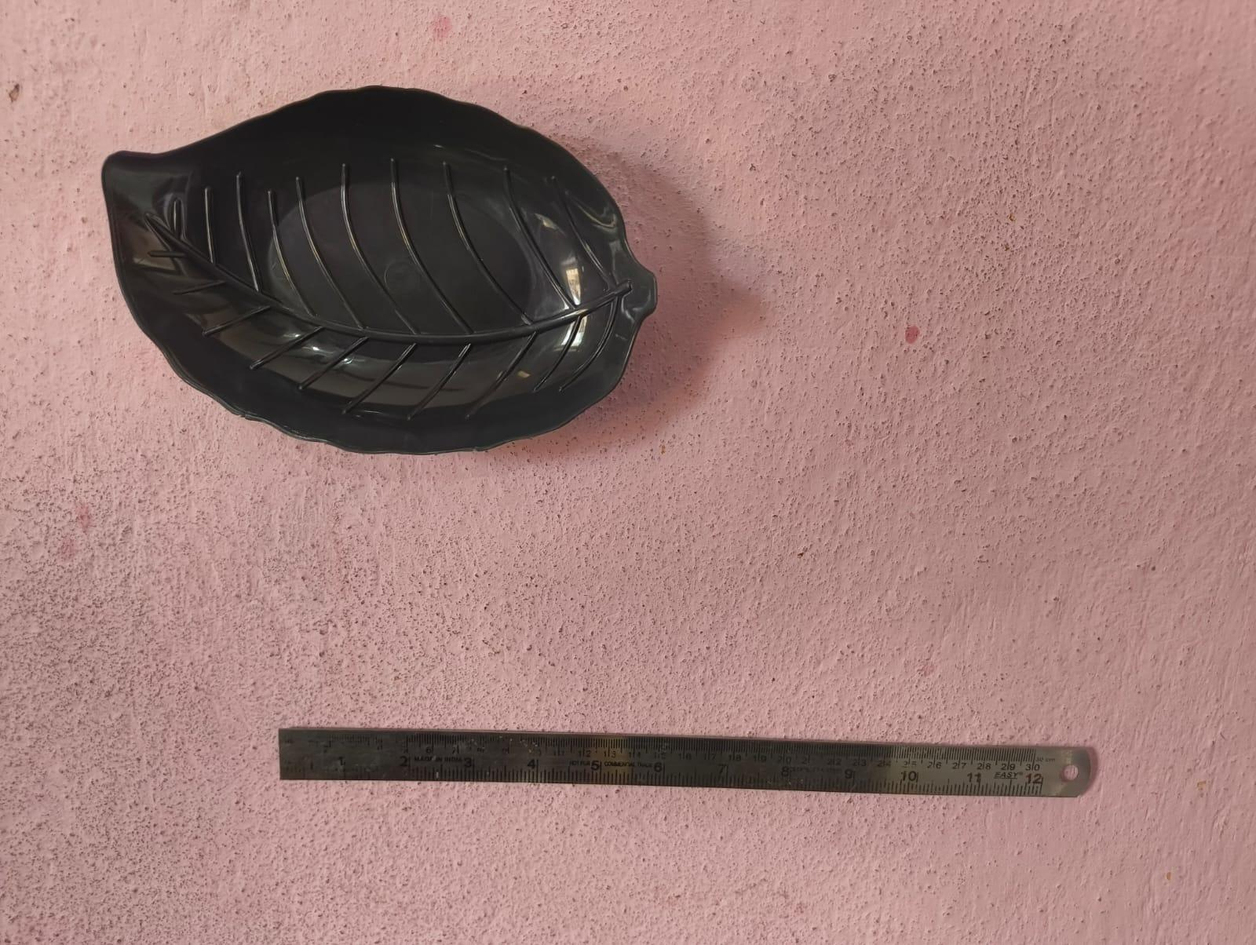plate: (66, 84, 698, 453)
scale: (254, 696, 1118, 816)
